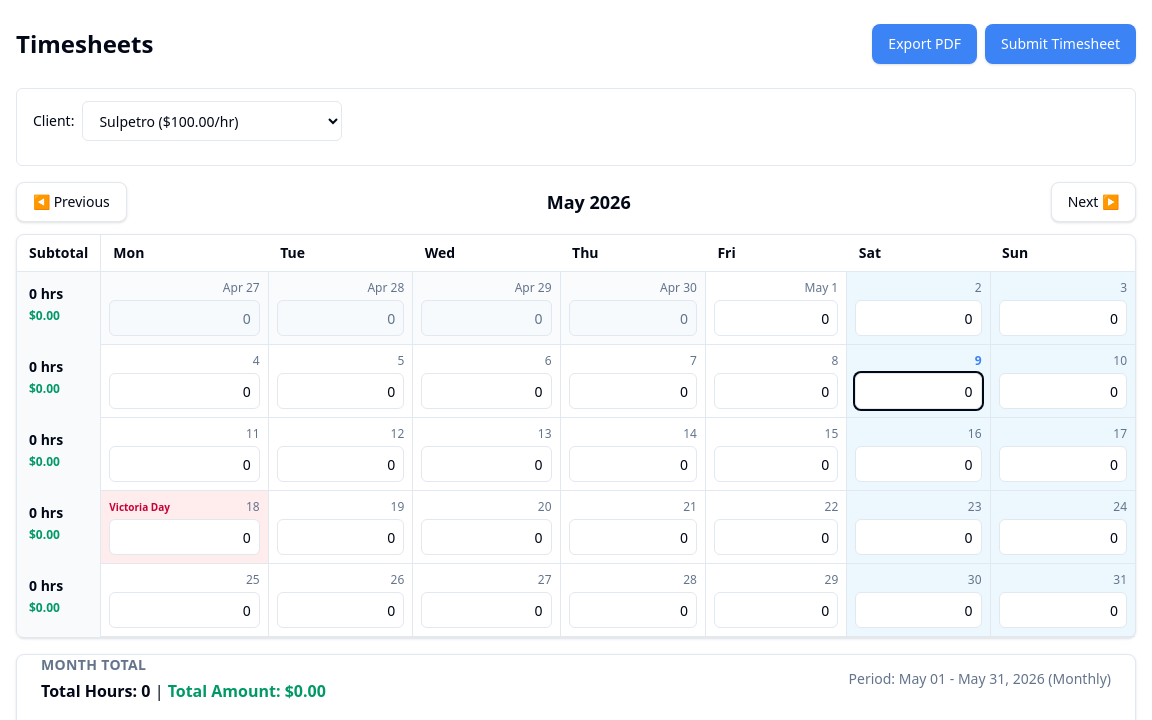
Test: Timesheets page › month navigation advances to the next month
The image size is (1152, 720).
Check: the heading "May 2026" is shown, box [547, 188, 631, 216]
Click the button "Next ▶" at (1093, 202), box [1051, 182, 1136, 222]
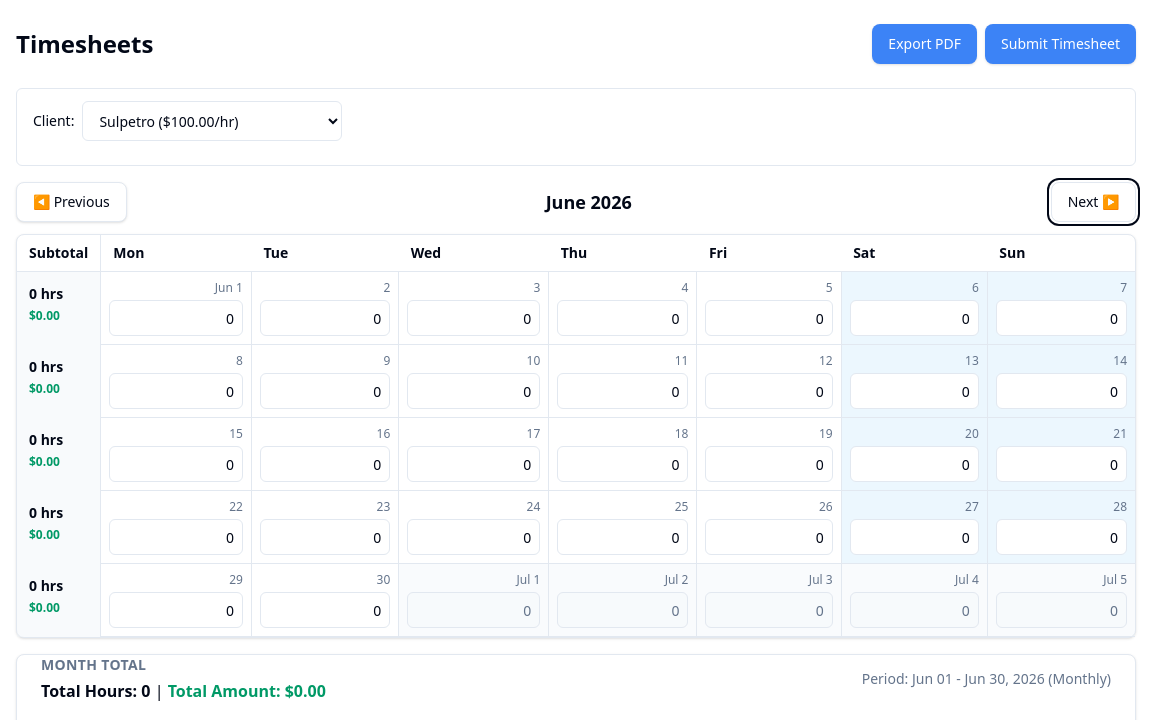
Check: the heading "June 2026" is shown, box [546, 188, 632, 216]
